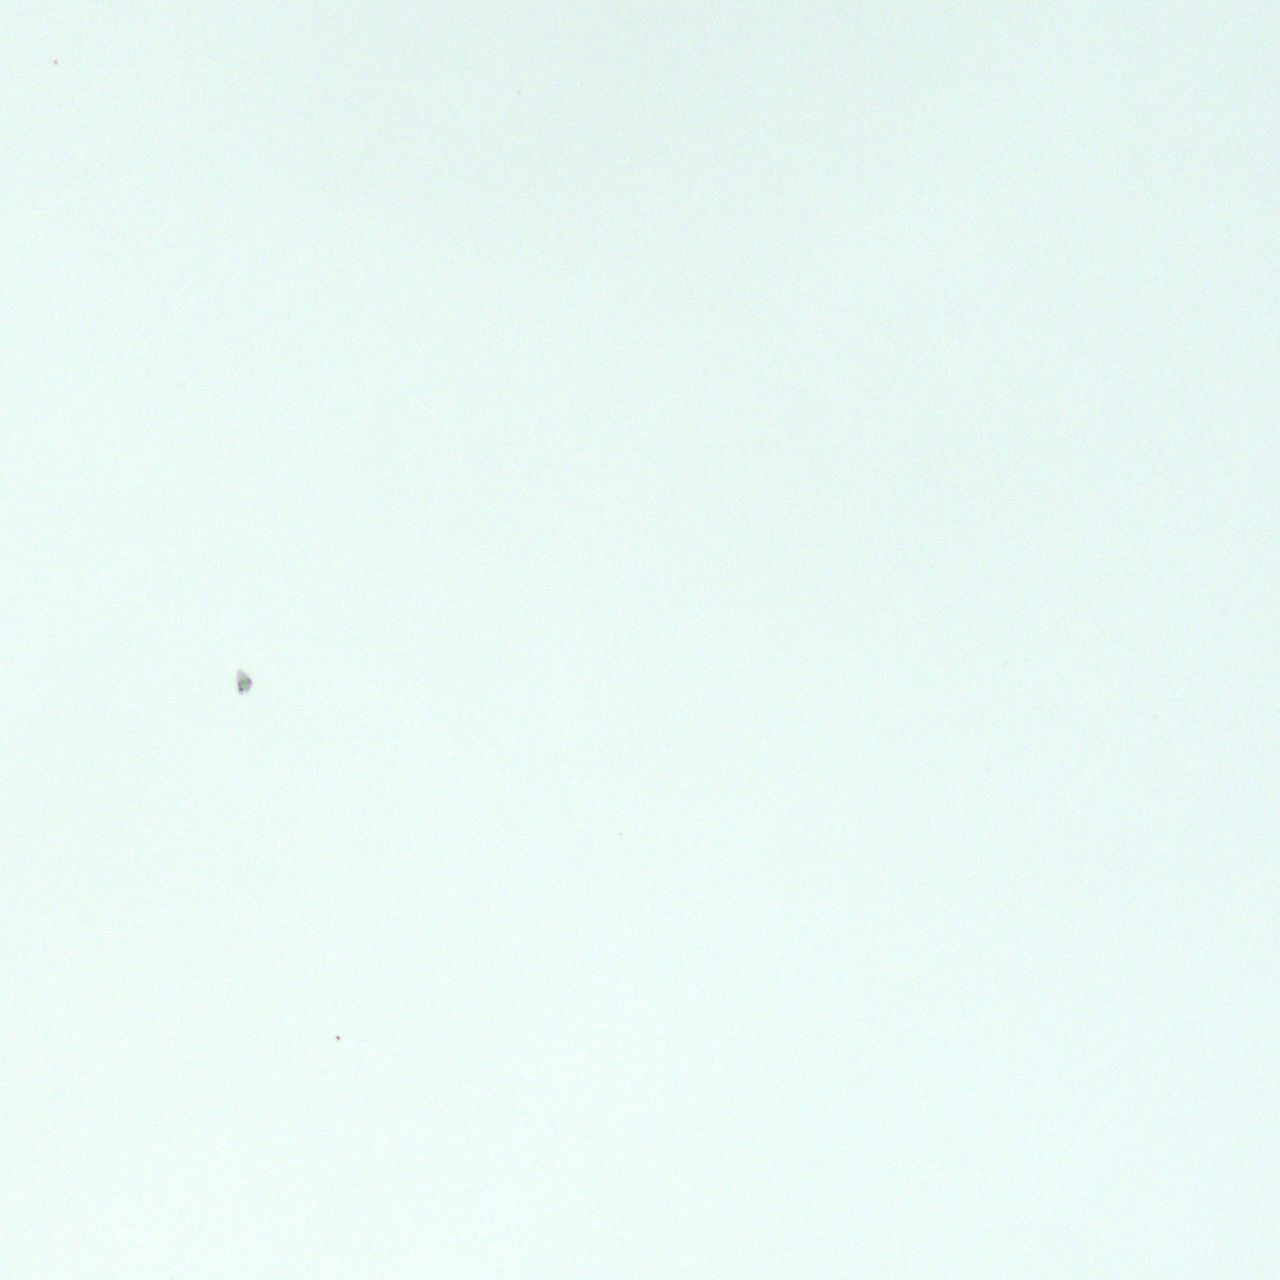dust: (237, 670, 250, 692), (336, 1035, 340, 1040)
